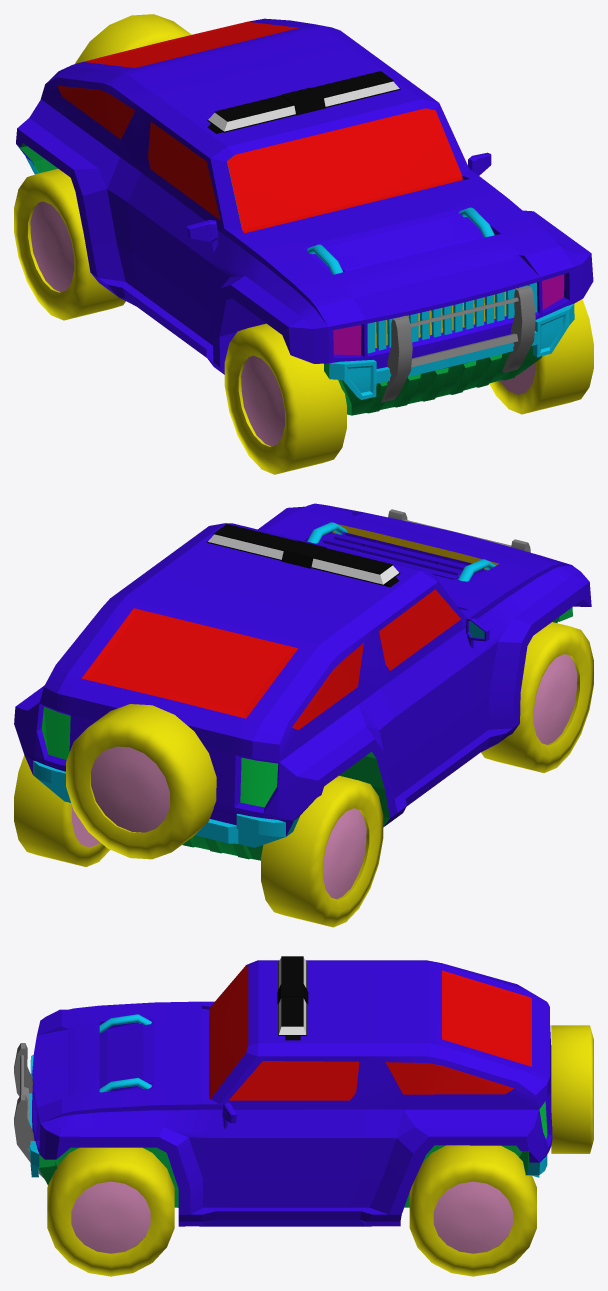
File: 03_TitanZ1Police_ColorCoded.fbx
3 views of the same model, one above another, from view 1: azimuth 30°, elevation 25°; view 2: azimuth 150°, elevation 25°; view 3: azimuth 270°, elevation 25° (orthographic). The views are drawn at different scales.
Visible parts, largest first — view 1: Body, tireFrontR, tireBackR, tireFrontL, police_ram, police_light, tire_Center; view 2: Body, tire_Center, tireBackR, tireFrontR, tireBackL, police_light; view 3: Body, tireBackL, tireFrontL, tire_Center, police_light, police_ram.
Part boxes in pixels (bbox=[...]): Body: bbox=[16, 18, 593, 415]; tireFrontR: bbox=[224, 323, 346, 474]; tireBackR: bbox=[14, 168, 125, 320]; tireFrontL: bbox=[489, 299, 593, 414]; police_ram: bbox=[381, 285, 535, 402]; police_light: bbox=[207, 71, 400, 133]; tire_Center: bbox=[75, 14, 191, 63]; Body: bbox=[14, 503, 591, 860]; tire_Center: bbox=[66, 704, 216, 859]; tireBackR: bbox=[261, 775, 383, 927]; tireFrontR: bbox=[481, 622, 593, 772]; tireBackL: bbox=[14, 755, 110, 866]; police_light: bbox=[206, 524, 400, 587]; Body: bbox=[29, 960, 552, 1226]; tireBackL: bbox=[409, 1145, 536, 1276]; tireFrontL: bbox=[47, 1147, 174, 1276]; tire_Center: bbox=[551, 1025, 593, 1153]; police_light: bbox=[277, 956, 308, 1040]; police_ram: bbox=[14, 1043, 43, 1178].
Size of the model in its own units: 63.5 by 122 by 52.
